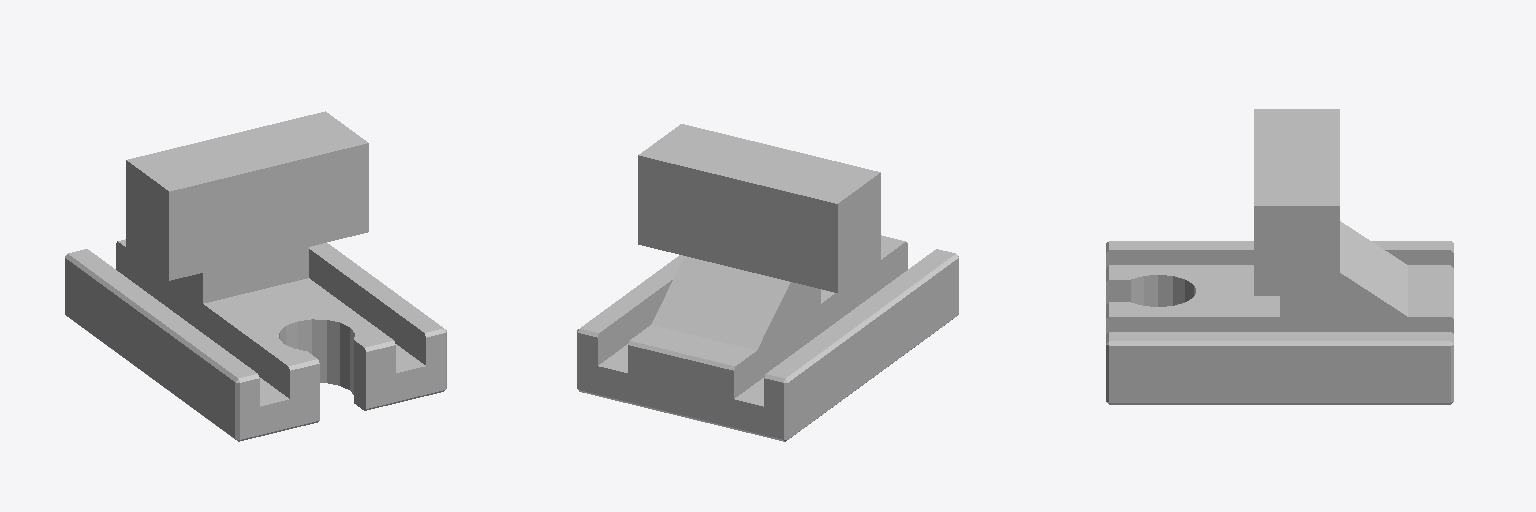
Rendered from train_track_stop.obj.
3 views of the same model, side by side, from view 1: azimuth 30°, elevation 25°; view 2: azimuth 150°, elevation 25°; view 3: azimuth 270°, elevation 25° (orthographic).
Visible parts, largest first — view 1: Straight_Stop_Final; view 2: Straight_Stop_Final; view 3: Straight_Stop_Final.
Part boxes in pixels (left/top/right/bottom): Straight_Stop_Final: left=65, top=111, right=446, bottom=441; Straight_Stop_Final: left=577, top=124, right=958, bottom=441; Straight_Stop_Final: left=1106, top=109, right=1453, bottom=404.
Bounding box in the file's own units: 0.7 × 0.6208 × 0.9967.